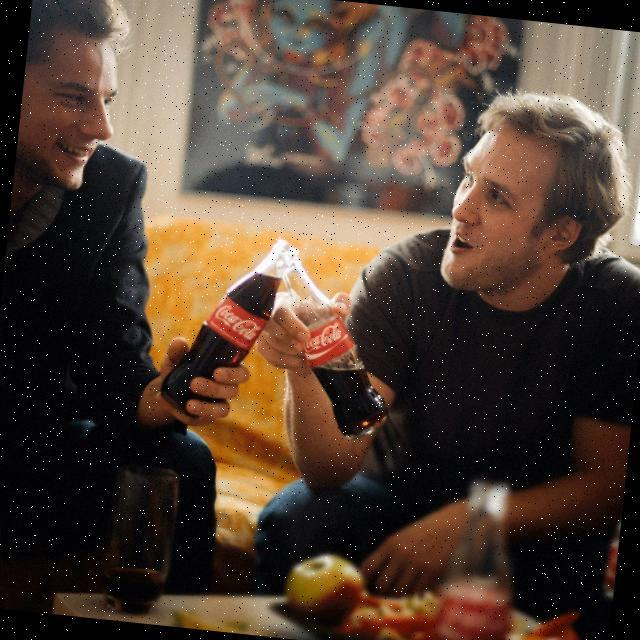coca-cola: (265, 246, 407, 447), (156, 229, 297, 427)
